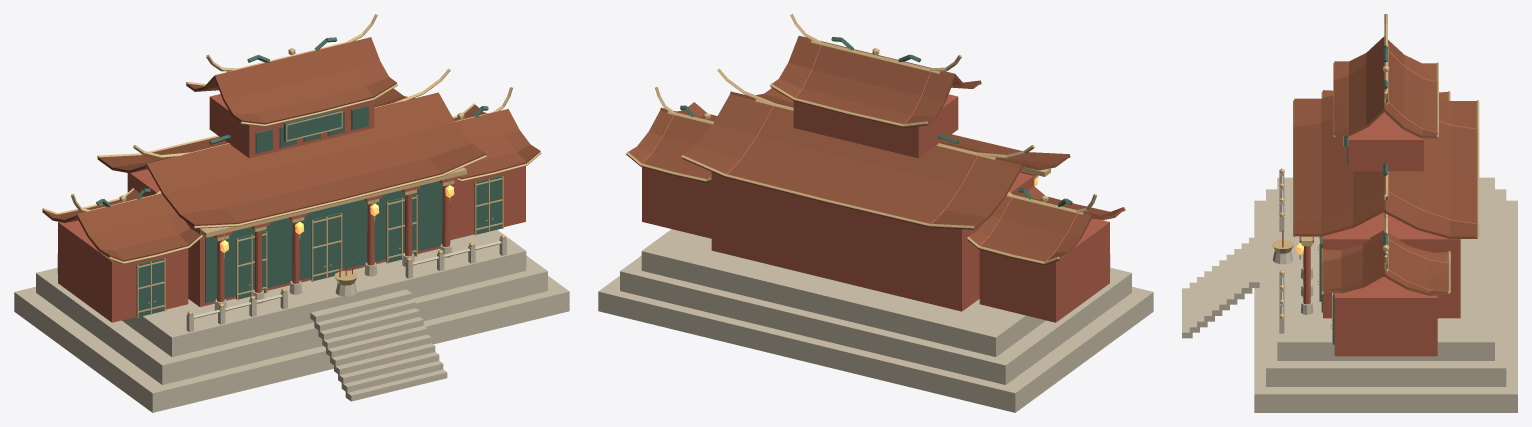
File: tpe4_longshan_low_courtyard.glb
The picture shows the model from 3 angles, left to right: view 1: azimuth 30°, elevation 25°; view 2: azimuth 150°, elevation 25°; view 3: azimuth 270°, elevation 25°; orthographic projection. The views are drawn at different scales.
Parts seen in each view (by area): view 1: tpe4_longshan_low_courtyard__tpe4-temple-warm-stone, tpe4_longshan_low_courtyard__tpe4-temple-tile, tpe4_longshan_low_courtyard__tpe4-temple-dark-jade, tpe4_longshan_low_courtyard__tpe4-temple-cinnabar, tpe4_longshan_low_courtyard__tpe4-temple-sandstone-gold; view 2: tpe4_longshan_low_courtyard__tpe4-temple-warm-stone, tpe4_longshan_low_courtyard__tpe4-temple-tile, tpe4_longshan_low_courtyard__tpe4-temple-cinnabar, tpe4_longshan_low_courtyard__tpe4-temple-sandstone-gold, tpe4_longshan_low_courtyard__tpe4-temple-dark-jade; view 3: tpe4_longshan_low_courtyard__tpe4-temple-warm-stone, tpe4_longshan_low_courtyard__tpe4-temple-tile, tpe4_longshan_low_courtyard__tpe4-temple-cinnabar, tpe4_longshan_low_courtyard__tpe4-temple-sandstone-gold, tpe4_longshan_low_courtyard__tpe4-temple-dark-jade.
Boxes of the visible parts, x1=… form: tpe4_longshan_low_courtyard__tpe4-temple-warm-stone: x1=14, y1=230, x2=569, y2=412; tpe4_longshan_low_courtyard__tpe4-temple-tile: x1=42, y1=37, x2=540, y2=261; tpe4_longshan_low_courtyard__tpe4-temple-dark-jade: x1=96, y1=37, x2=501, y2=316; tpe4_longshan_low_courtyard__tpe4-temple-cinnabar: x1=57, y1=94, x2=525, y2=322; tpe4_longshan_low_courtyard__tpe4-temple-sandstone-gold: x1=42, y1=14, x2=541, y2=317; tpe4_longshan_low_courtyard__tpe4-temple-warm-stone: x1=598, y1=229, x2=1153, y2=412; tpe4_longshan_low_courtyard__tpe4-temple-tile: x1=626, y1=35, x2=1124, y2=265; tpe4_longshan_low_courtyard__tpe4-temple-cinnabar: x1=642, y1=45, x2=1109, y2=322; tpe4_longshan_low_courtyard__tpe4-temple-sandstone-gold: x1=626, y1=14, x2=1125, y2=264; tpe4_longshan_low_courtyard__tpe4-temple-dark-jade: x1=680, y1=37, x2=1072, y2=206; tpe4_longshan_low_courtyard__tpe4-temple-warm-stone: x1=1182, y1=172, x2=1517, y2=412; tpe4_longshan_low_courtyard__tpe4-temple-tile: x1=1294, y1=36, x2=1477, y2=296; tpe4_longshan_low_courtyard__tpe4-temple-cinnabar: x1=1282, y1=50, x2=1476, y2=356; tpe4_longshan_low_courtyard__tpe4-temple-sandstone-gold: x1=1271, y1=14, x2=1479, y2=344; tpe4_longshan_low_courtyard__tpe4-temple-dark-jade: x1=1320, y1=45, x2=1387, y2=344.
Size of the model in its own units: 42.42 by 25.38 by 29.31.
